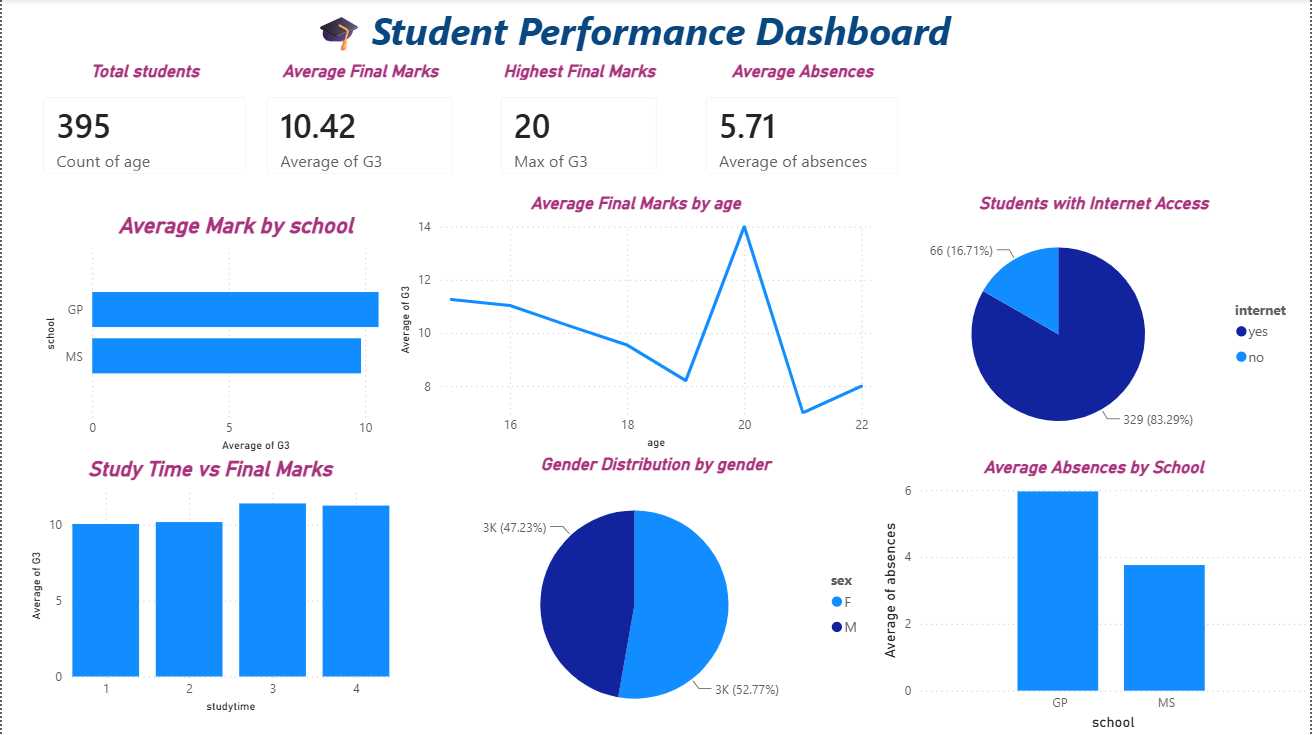

Layout of this report page (visuals, bound fields, positions):
{"tool":"powerbi","page":{"name":"Page 1","canvas":[1280,720],"ordinal":0},"visuals":[{"type":"cardVisual","title":"Total students","fields":{"Data":["CountNonNull(student_data.age)"]},"box":[23.3,60.4,233.3,129],"z":0},{"type":"cardVisual","title":"Average Final Marks","fields":{"Data":["Avg(student_data.G3)"]},"box":[241.5,60.4,216.8,129],"z":1000},{"type":"cardVisual","title":"Average Absences","fields":{"Data":["Avg(student_data.absences)"]},"box":[671,60.4,223.7,129],"z":2000},{"type":"clusteredBarChart","title":"Average Mark by school","fields":{"Category":["student_data.school"],"Y":["Avg(student_data.G3)"]},"box":[37,208.6,384.2,238.8],"z":3000},{"type":"pieChart","title":"Gender Distribution by gender","fields":{"Y":["Sum(student_data.age)"],"Category":["student_data.sex"]},"box":[421.3,444.6,435,275.8],"z":4000},{"type":"clusteredColumnChart","title":"Study Time vs Final Marks","fields":{"Category":["student_data.studytime"],"Y":["Avg(student_data.G3)"]},"box":[23.3,447.3,360.9,255.2],"z":5000},{"type":"lineChart","title":"Average Final Marks by age","fields":{"Category":["student_data.age"],"Y":["Avg(student_data.G3)"]},"box":[384.2,189.4,472,255.2],"z":6000},{"type":"clusteredColumnChart","title":"Average Absences by School","fields":{"Category":["student_data.school"],"Y":["Avg(student_data.absences)"]},"box":[856.3,447.3,424,273.1],"z":7000},{"type":"cardVisual","title":"Highest Final Marks","fields":{"Data":["Max(student_data.G3)"]},"box":[470.7,60.4,188,129],"z":8000},{"type":"textbox","box":[159.2,0,909.8,60.4],"z":9000},{"type":"pieChart","title":"Students with Internet Access","fields":{"Category":["student_data.internet"],"Y":["CountNonNull(student_data.age)"]},"box":[856.3,189.4,424,258],"z":10000}]}

Visuals, with their boxes in screenshot pixels (x1, y1, x2, y2), scaled from the page's 1280x720 canvas onto the 1312x735 screenshot:
"Total students" cardVisual: bbox(24, 62, 263, 193)
"Average Final Marks" cardVisual: bbox(248, 62, 470, 193)
"Average Absences" cardVisual: bbox(688, 62, 917, 193)
"Average Mark by school" clusteredBarChart: bbox(38, 213, 432, 457)
"Gender Distribution by gender" pieChart: bbox(432, 454, 878, 734)
"Study Time vs Final Marks" clusteredColumnChart: bbox(24, 457, 394, 717)
"Average Final Marks by age" lineChart: bbox(394, 193, 878, 454)
"Average Absences by School" clusteredColumnChart: bbox(878, 457, 1311, 734)
"Highest Final Marks" cardVisual: bbox(482, 62, 675, 193)
textbox: bbox(163, 0, 1096, 62)
"Students with Internet Access" pieChart: bbox(878, 193, 1311, 457)
